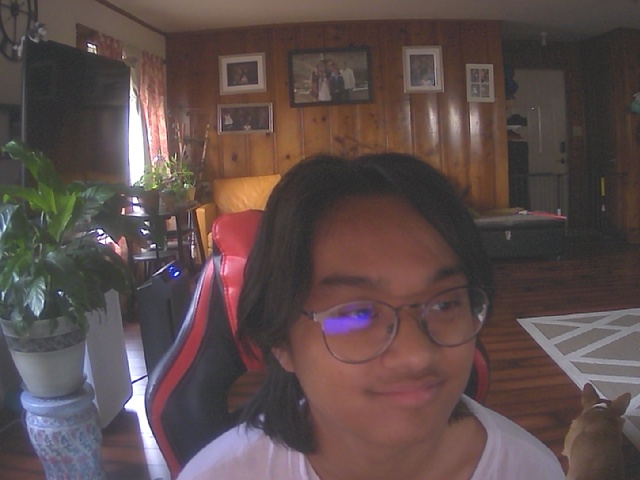happy: (265, 163, 497, 444)
